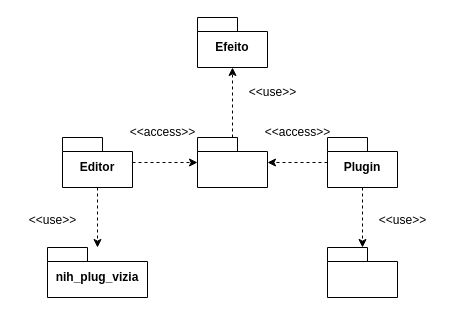
Some shapes in this 454 by 315 pixel diagram are drawn without their labels. The centre of each missing label's shape, as x and y in pixels:
"Cadeia de sinais" goes at point (232, 162).
"nih_plug" goes at point (362, 272).
